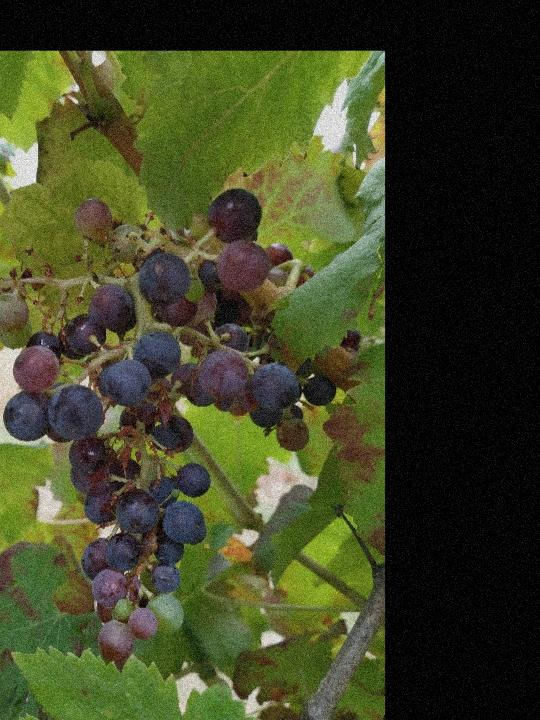grape: (0, 187, 367, 662)
